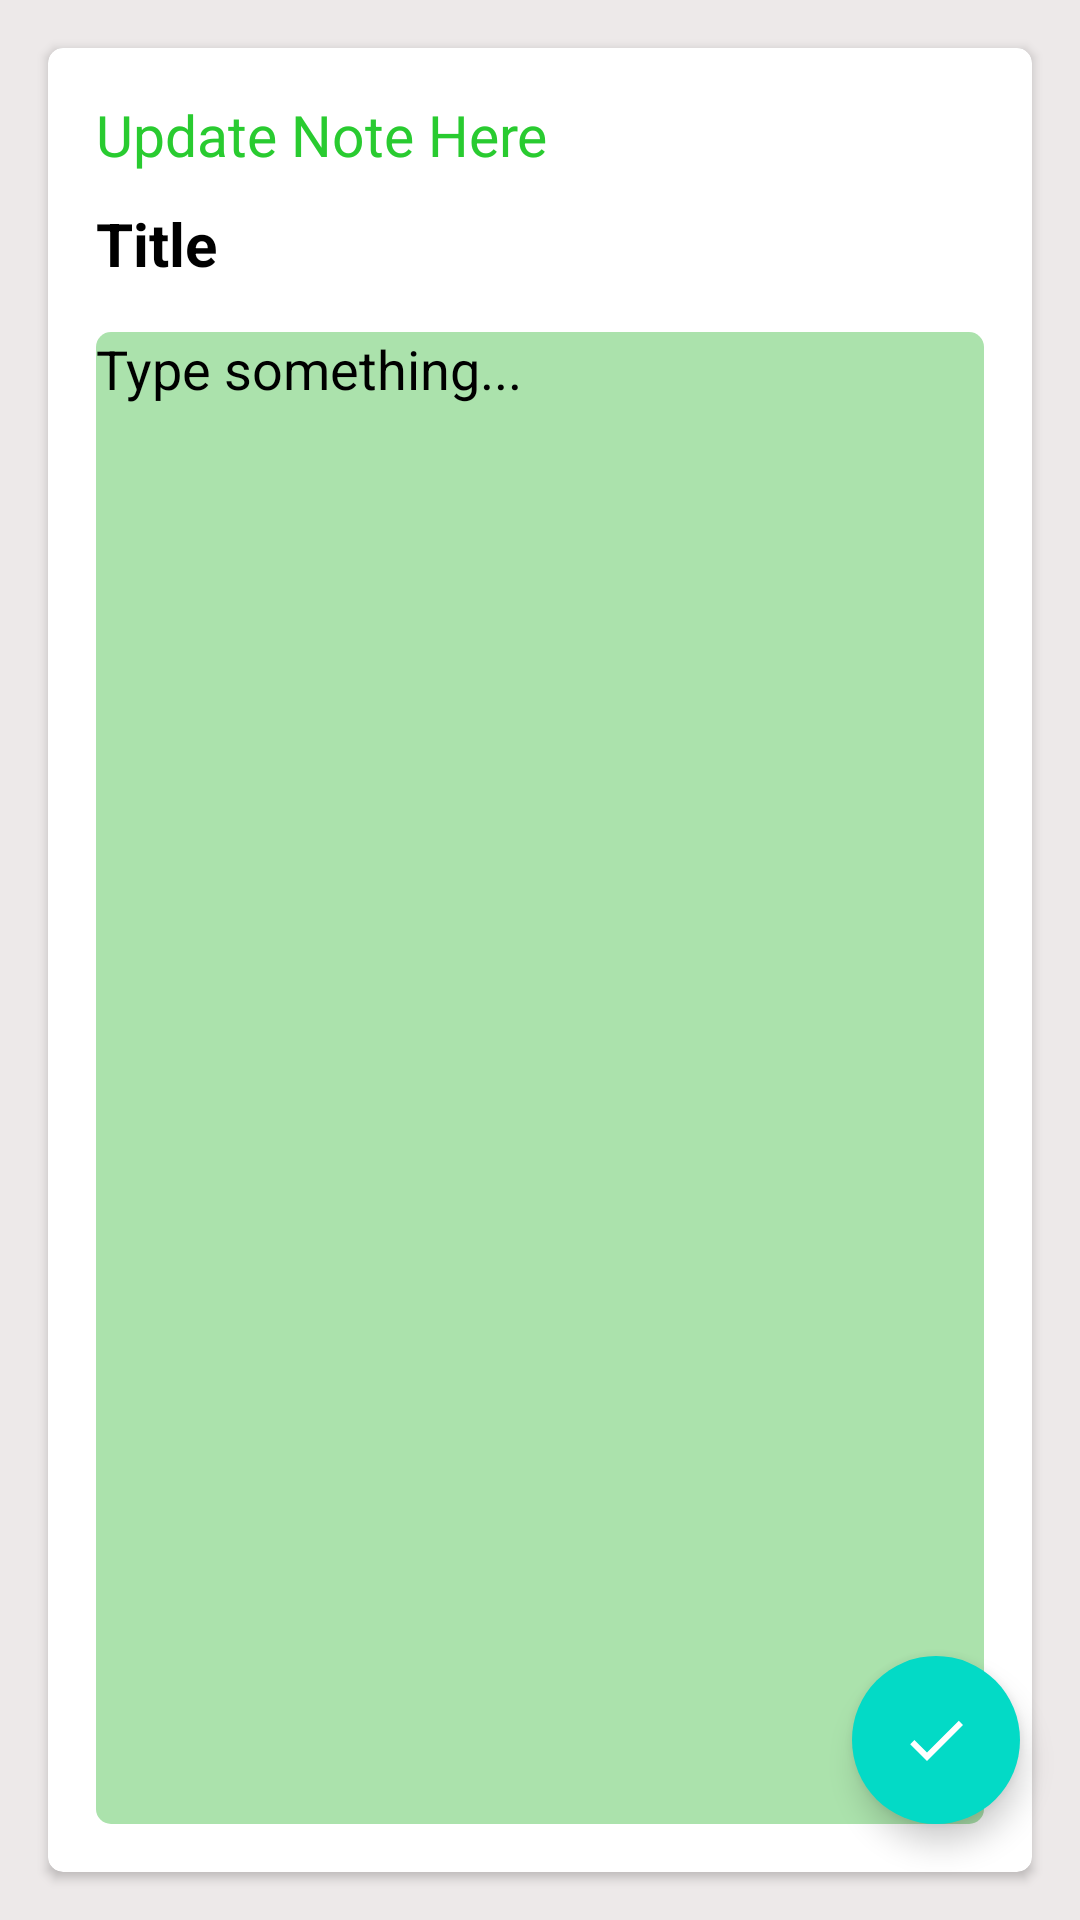

Screen size 1080px×1920px. Icon name, then its center in pixels as (x,y):
done: (936,1740)
